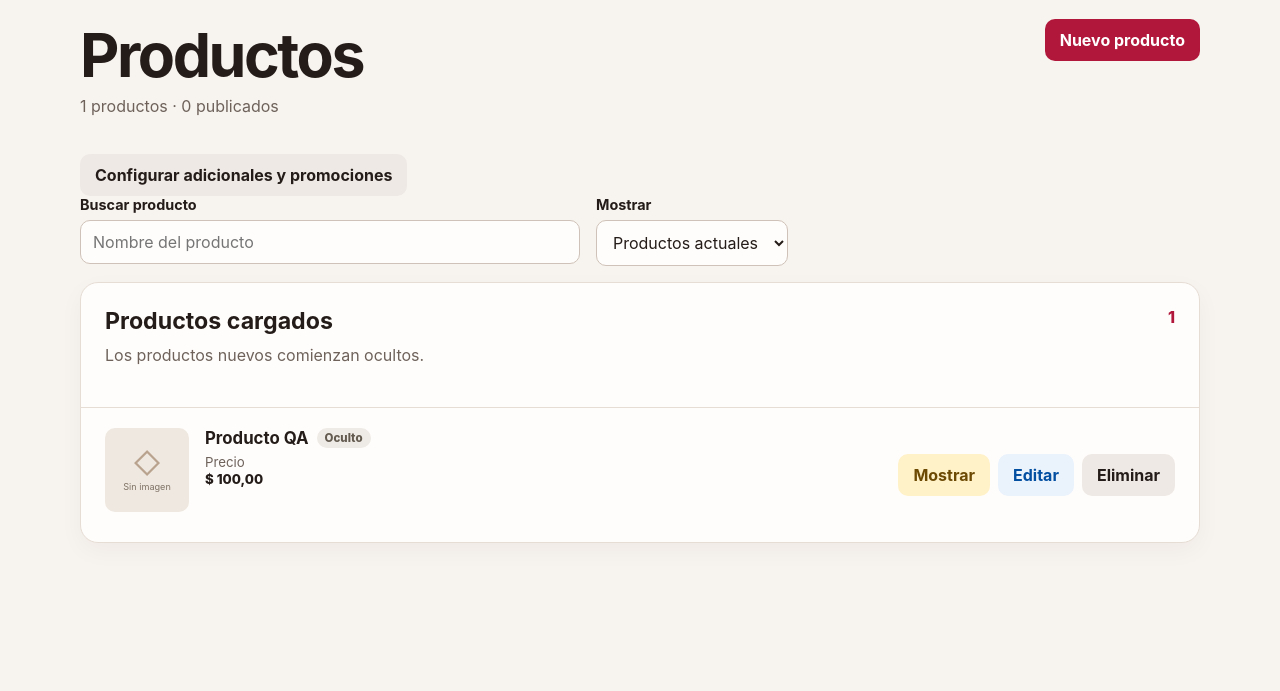
Scenario: consulta antes de eliminar, permite cancelar y requiere confirmación explícita
The image size is (1280, 691).
Step 1. Click the button with aria-label "Eliminar Producto QA" → click(1128, 475), box [1082, 454, 1175, 496]
(page scrolled)
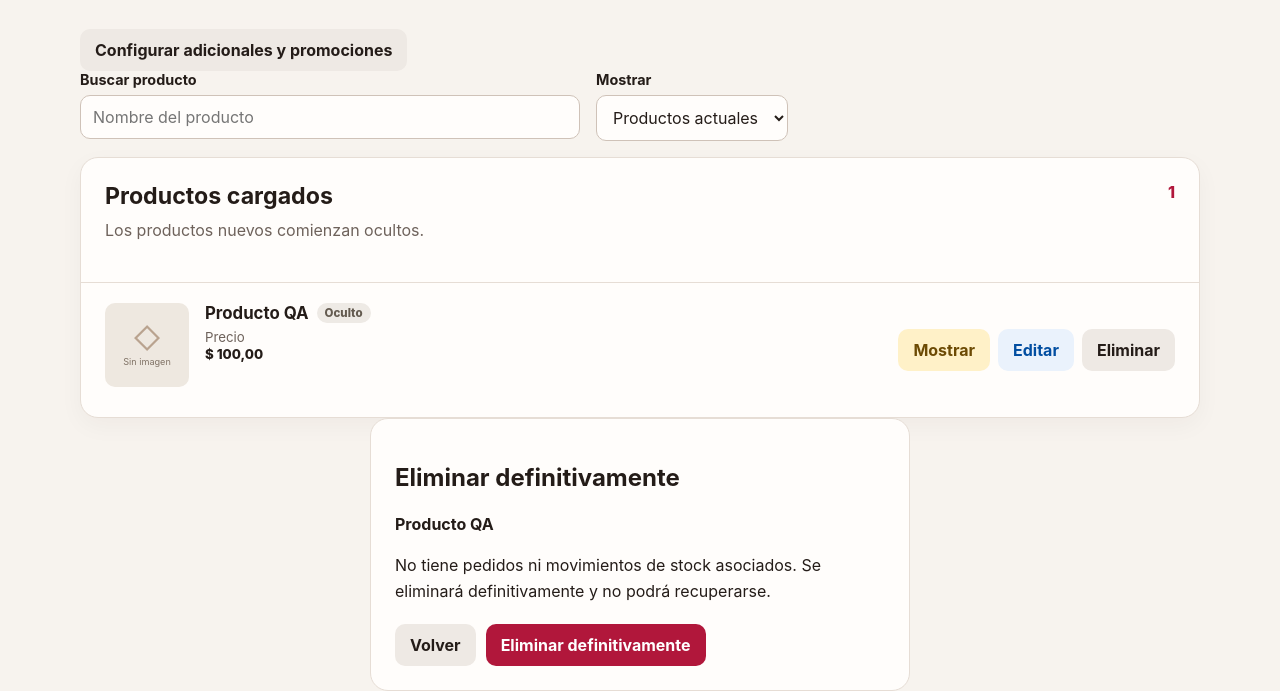
Step 2. Click the button "Volver" → click(435, 645), box [395, 624, 476, 666]
(page scrolled)
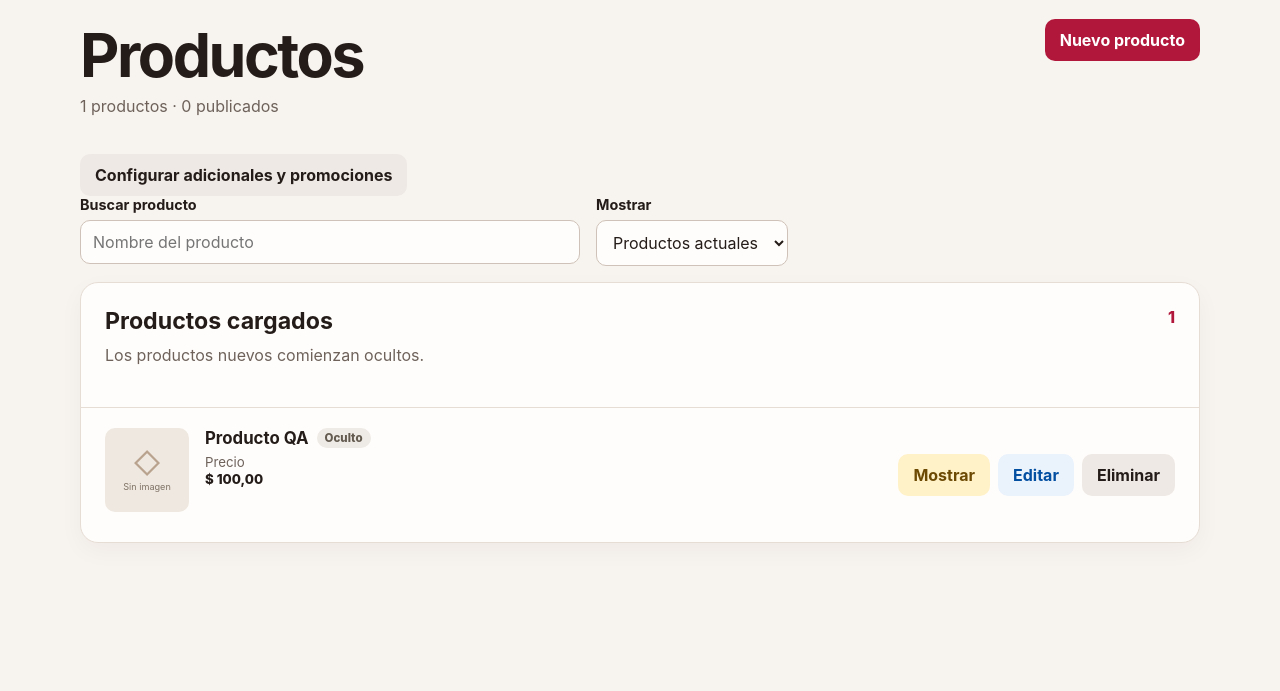
Expected: the heading "Producto QA" is shown, [205, 428, 309, 448]
Step 3. Click the button with aria-label "Eliminar Producto QA" → click(1128, 475), box [1082, 454, 1175, 496]
(page scrolled)
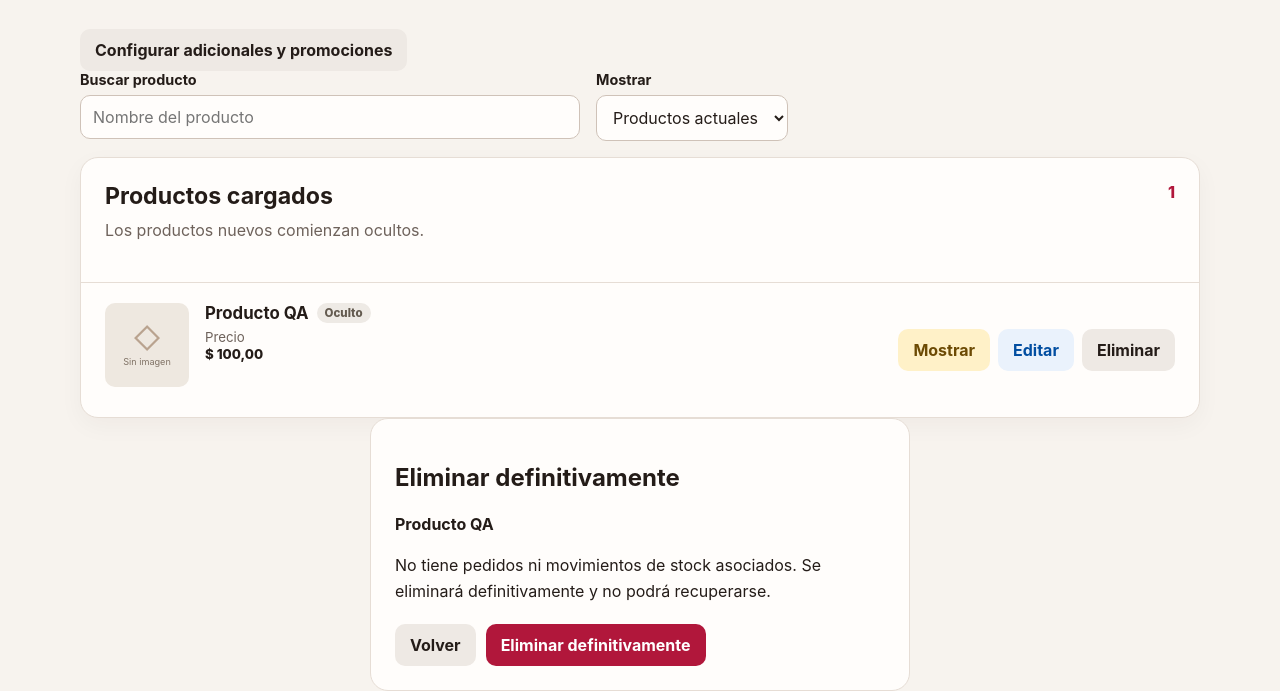
Step 4. Click the button "Eliminar definitivamente" → click(596, 645), box [486, 624, 706, 666]
(page scrolled)
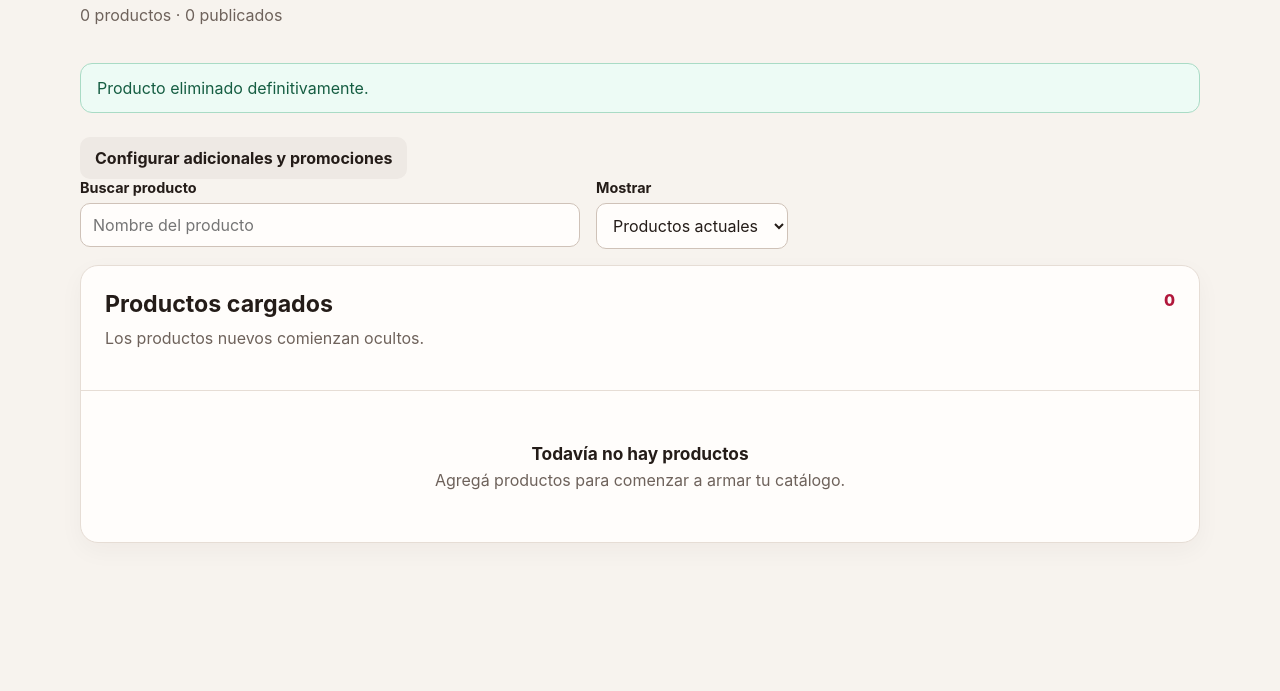
Expected: the message reads "Producto eliminado definitivamente.", [97, 78, 368, 98]
Expected: the heading "Producto QA" is gone
